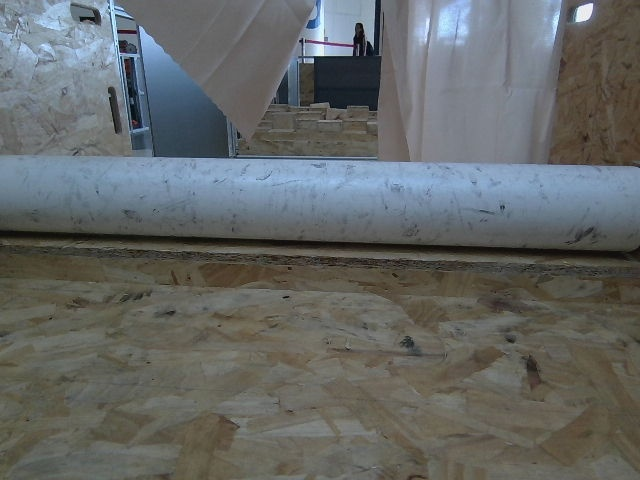curtain: (51, 0, 589, 163)
